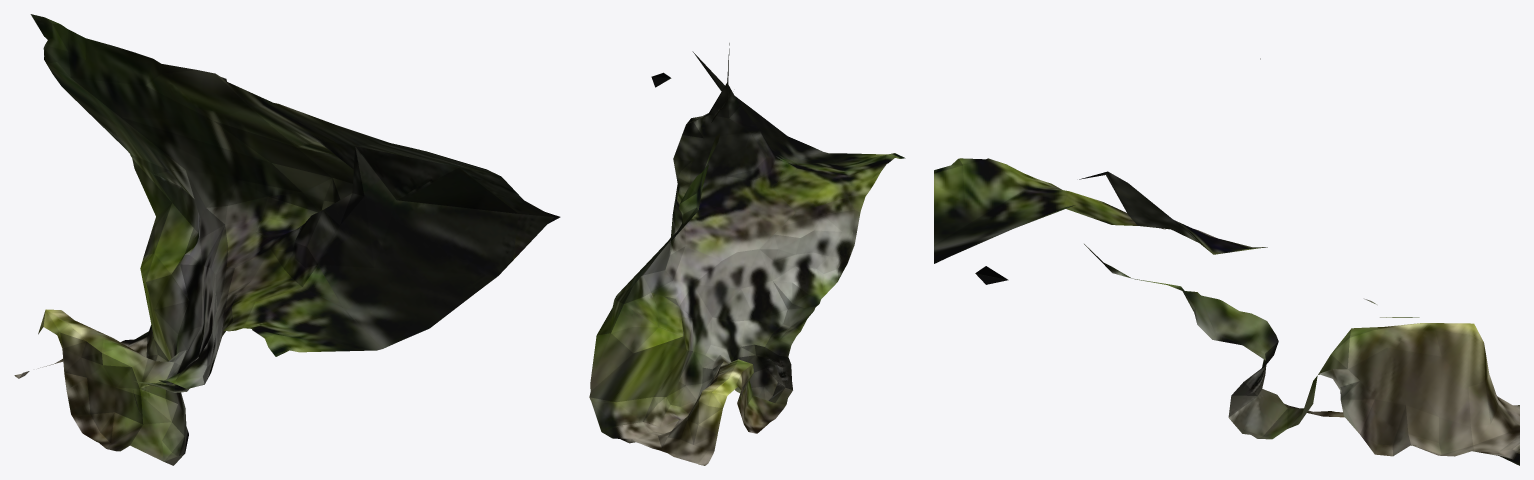
3 renders of one model, left to right at view 1: azimuth 30°, elevation 25°; view 2: azimuth 150°, elevation 25°; view 3: azimuth 270°, elevation 25°, orthographic. The views are drawn at different scales.
Size of the model in its own units: 1.14 by 1.3 by 1.67.
Materials: 2 (2 with a texture image).
